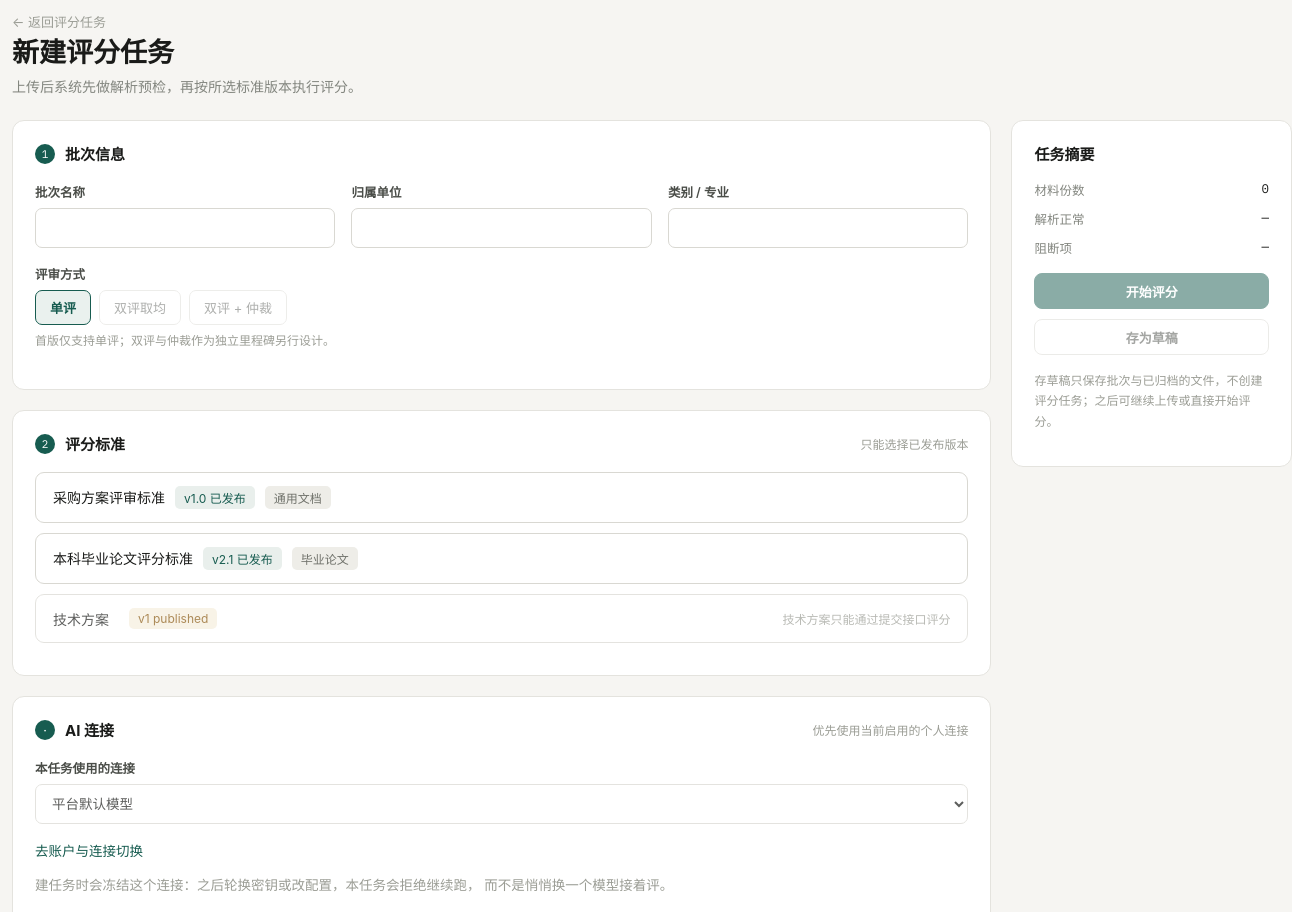
Test case: 评分标准后显示文档类型；技术方案类型的标准不可选
The width and height of the screenshot is (1292, 912).
Check: the elements with test id "rubric-type" read "通用文档", "毕业论文", in this order, box [265, 486, 331, 509]; [292, 547, 358, 570]
Step 1. Click the radio button with class "rubric-radio" → (109, 498), box [35, 472, 968, 523]
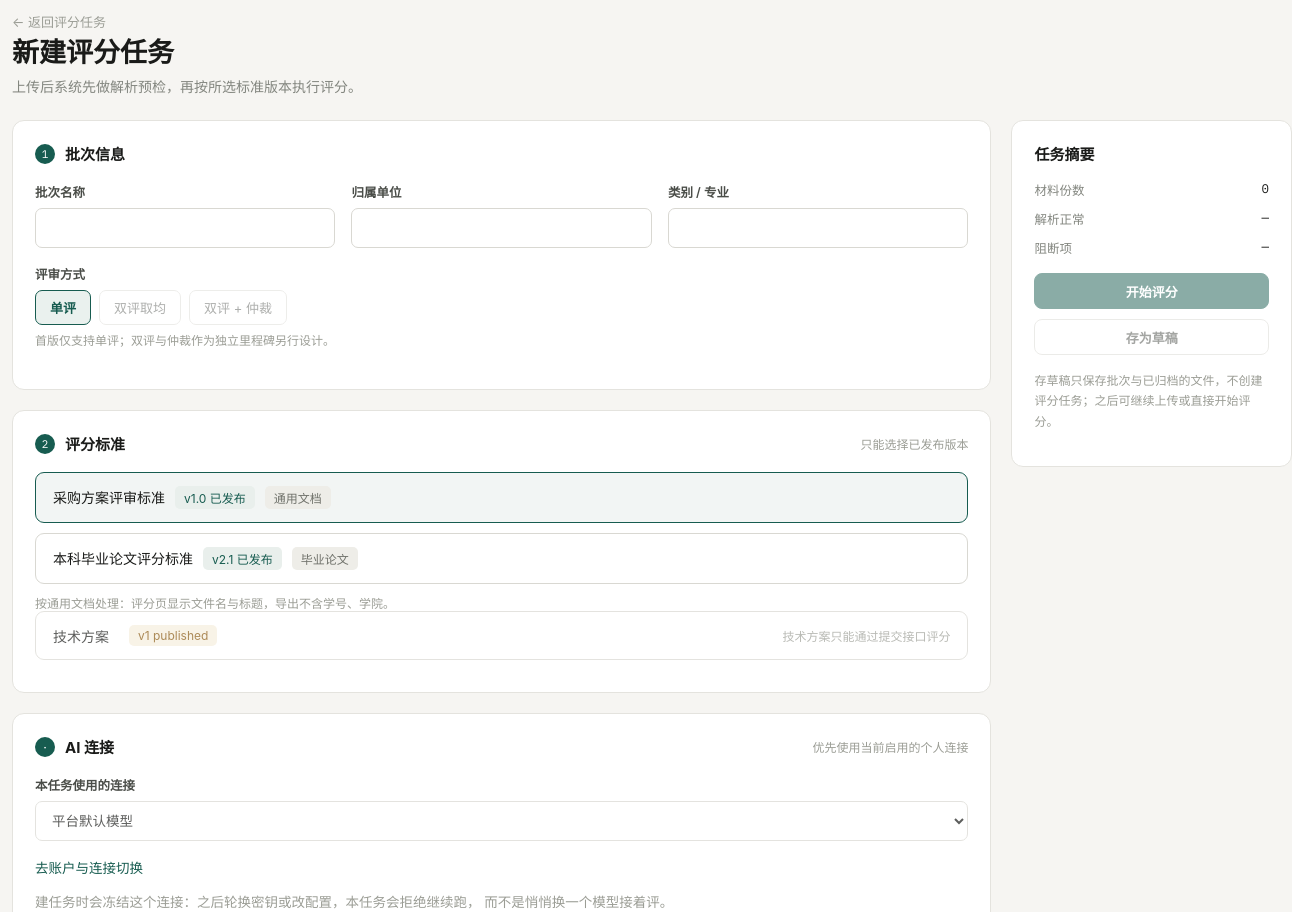
Check: the text with test id "type-note" shows "按通用文档处理", box [35, 596, 395, 611]
Step 2. Click the radio button with class "rubric-radio" → (123, 559), box [35, 533, 968, 584]
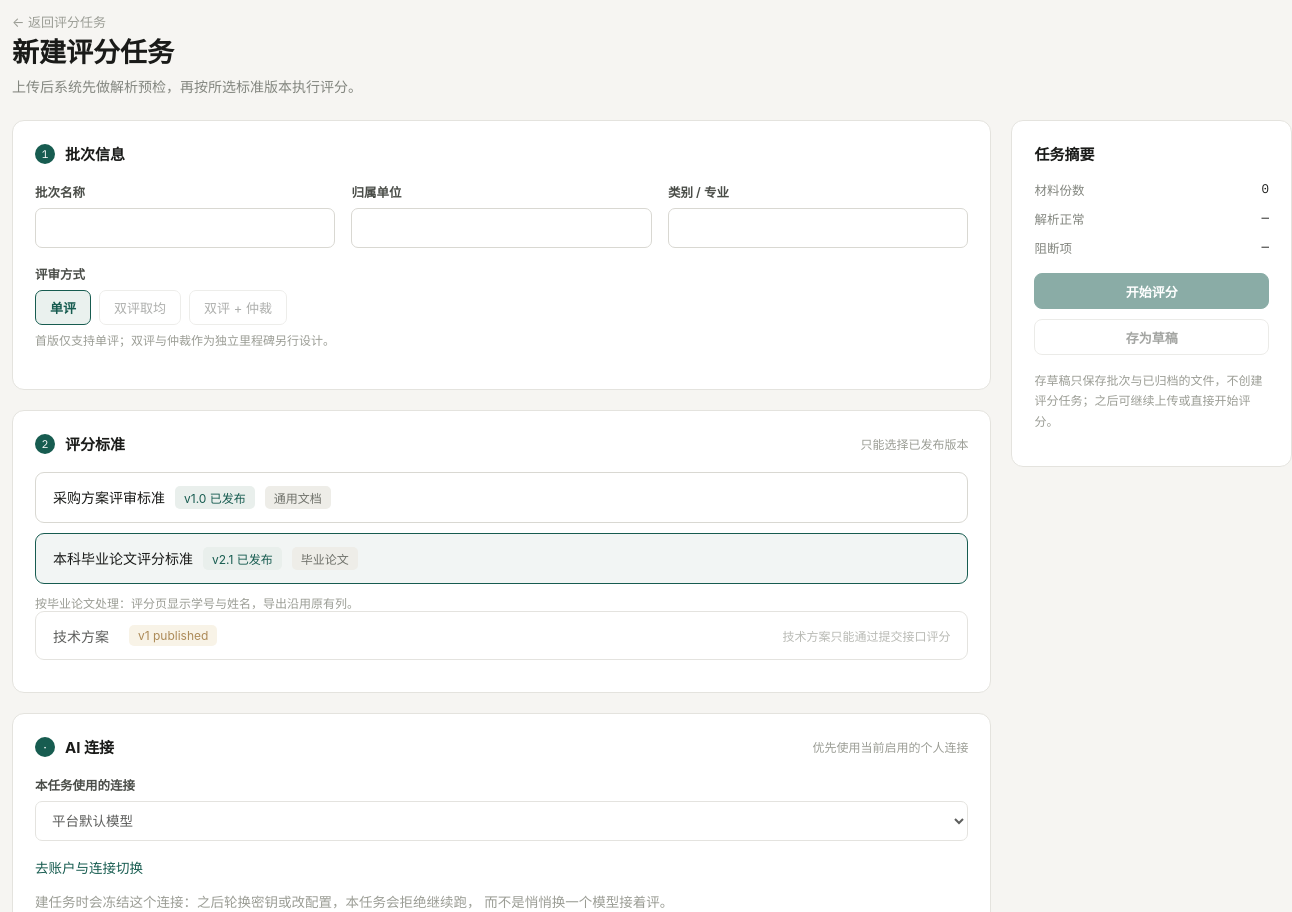
Check: the text with test id "type-note" shows "按毕业论文处理", box [35, 596, 359, 611]
